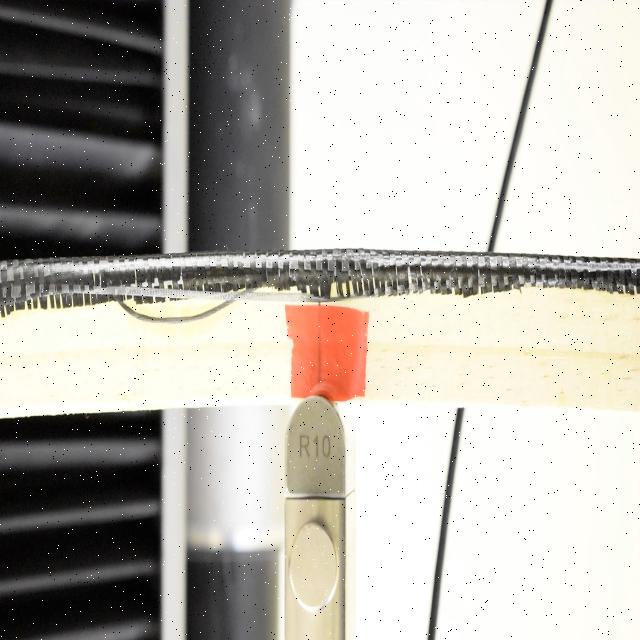wood: (0, 248, 639, 416)
